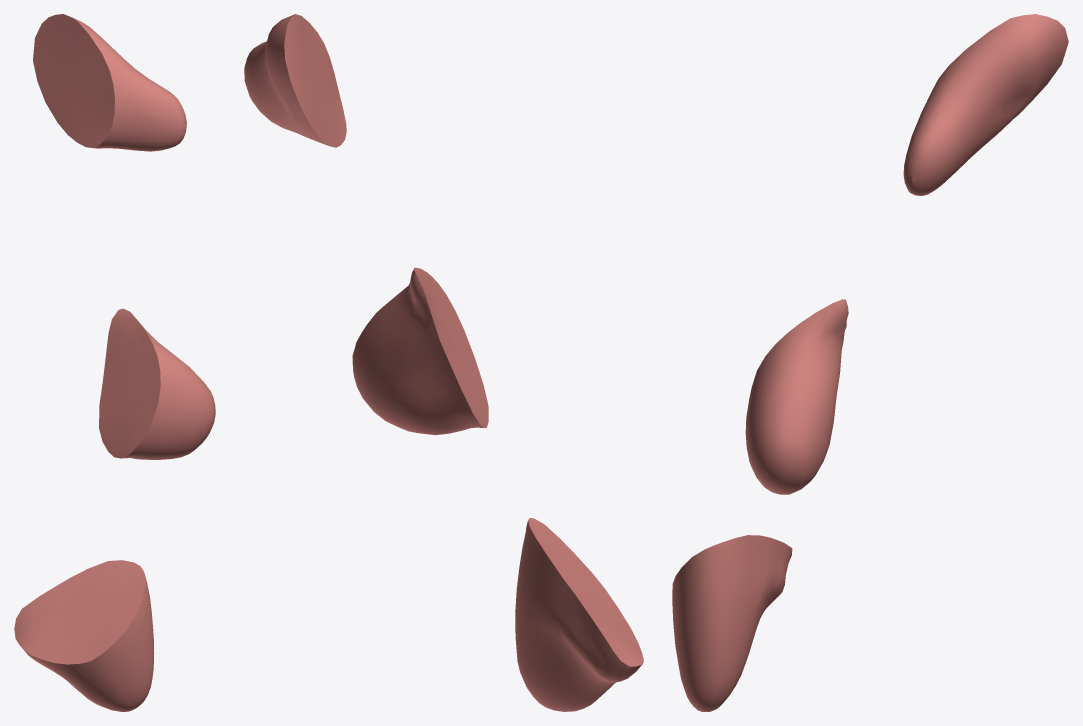
File: fma299901_mm3941m.glb
The picture shows the model from 3 angles, left to right: view 1: azimuth 30°, elevation 25°; view 2: azimuth 150°, elevation 25°; view 3: azimuth 270°, elevation 25°; orthographic projection. The views are drawn at different scales.
Parts seen in each view (by area): view 1: FMA299901_MM3941M; view 2: FMA299901_MM3941M; view 3: FMA299901_MM3941M.
Part boxes in pixels (<box>): FMA299901_MM3941M: <box>14,14,215,711</box>; FMA299901_MM3941M: <box>244,14,643,711</box>; FMA299901_MM3941M: <box>672,14,1068,711</box>.
Bounding box in the file's own units: 0.0339 × 0.0838 × 0.0408.
